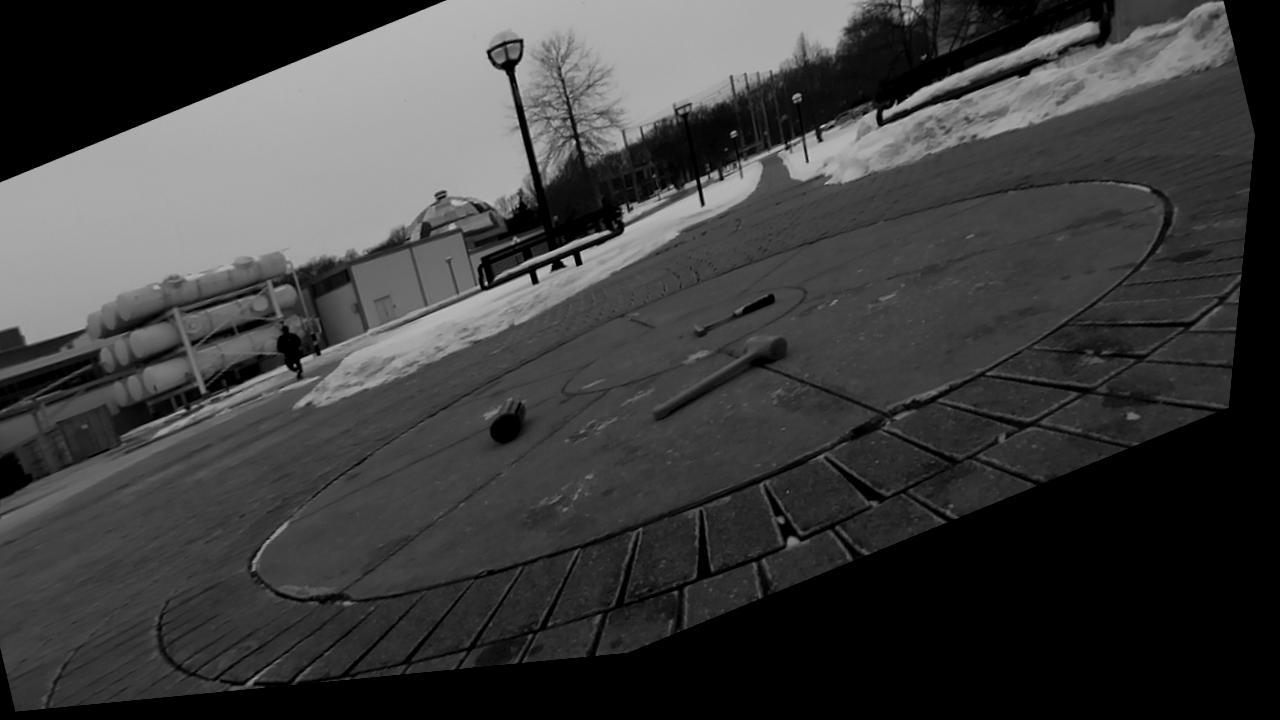bottle: (489, 399, 524, 441)
mallet: (652, 336, 787, 419)
pick: (694, 293, 774, 337)
